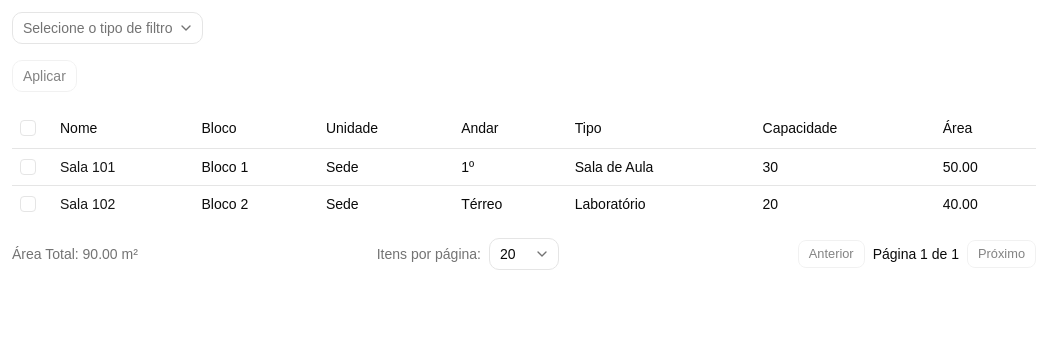
Scenario: PublicadosPage › usuário autenticado (UC20-FE) › selecionar um item exibe AcoesLote com contador
The width and height of the screenshot is (1048, 361).
Click the checkbox named "Selecionar Sala 101": (28, 166) [20,158,36,174]
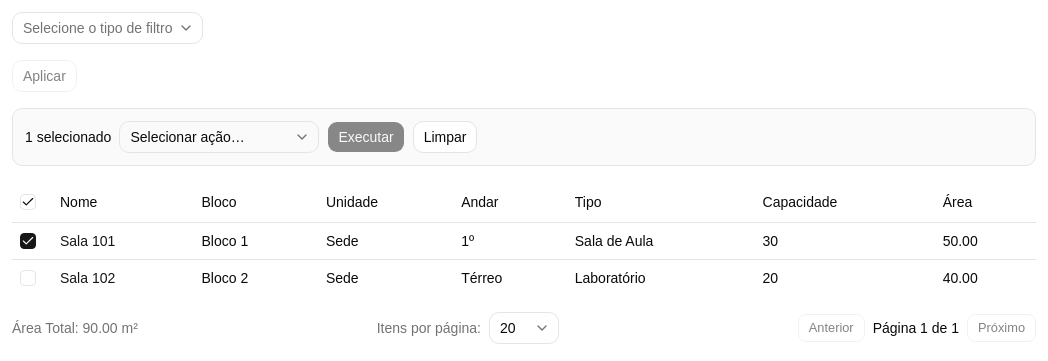
Expected: the element named "Ações em lote" is shown, [12,108,1036,166]
Expected: the text "1 selecionado" is shown, [25,127,111,147]
